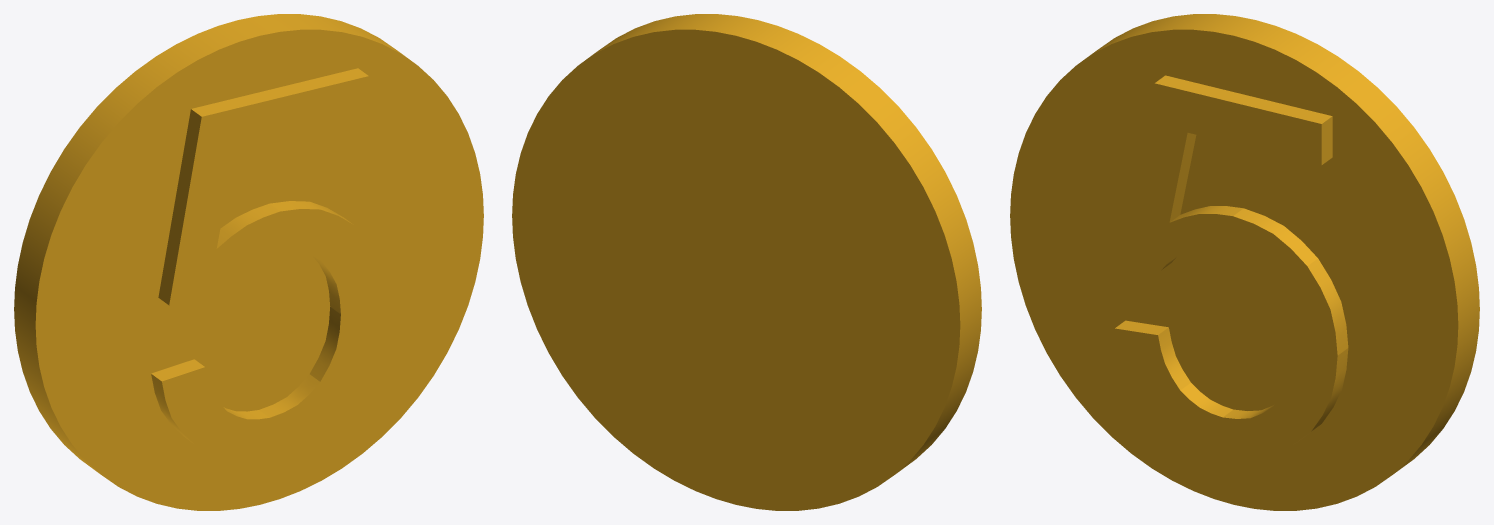
Rendered from disk5.fbx.
3 views of the same model, side by side, from view 1: azimuth 30°, elevation 25°; view 2: azimuth 150°, elevation 25°; view 3: azimuth 330°, elevation 25° (orthographic).
Parts seen in each view (by area): view 1: Body1; view 2: Body1; view 3: Body1.
Part boxes in pixels (left/top/right/bottom): Body1: left=14, top=14, right=483, bottom=510; Body1: left=512, top=14, right=981, bottom=510; Body1: left=1010, top=14, right=1479, bottom=510.
Size of the model in its own units: 1200 by 1200 by 150.
